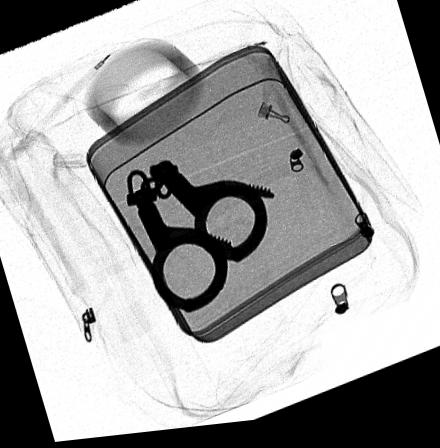HandCuffs: (124, 163, 278, 318)
